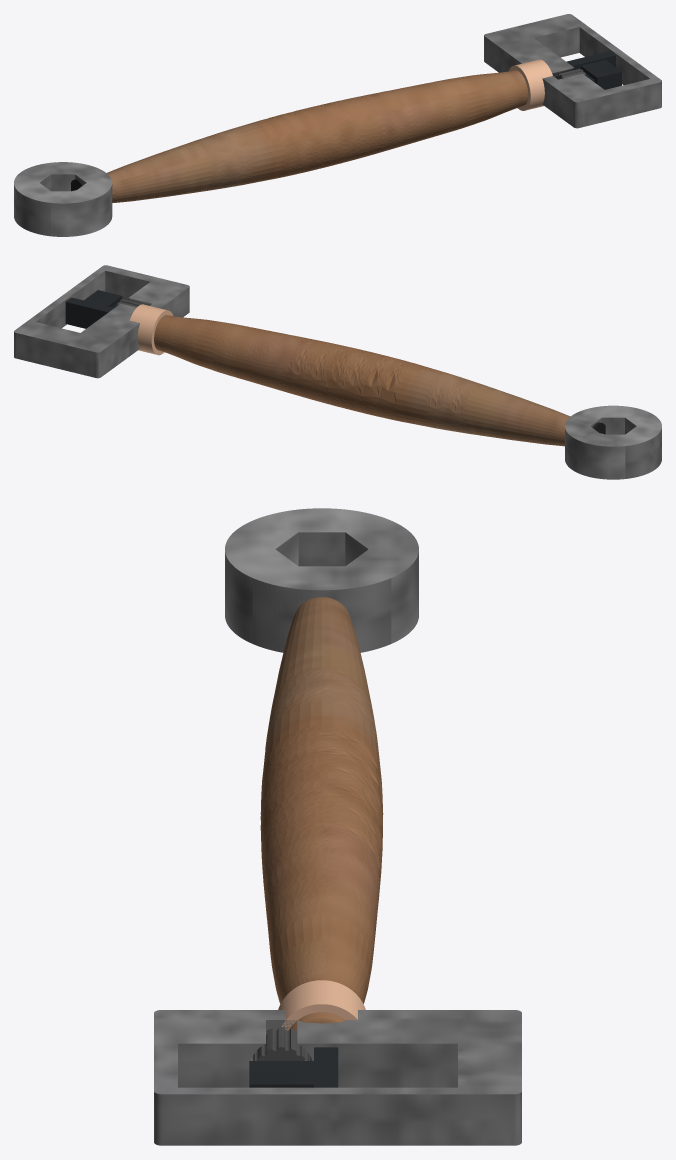
Rendered from Handtools_Wrench__0041.glb.
3 renders of one model, top to bottom at view 1: azimuth 30°, elevation 25°; view 2: azimuth 150°, elevation 25°; view 3: azimuth 270°, elevation 25°, orthographic. The views are drawn at different scales.
Visible parts, largest first — view 1: wrench_body::wood_grip, wrench_body::body_shell, movable_jaw::jaw_shell, wrench_body::ferrule_collar; view 2: wrench_body::wood_grip, wrench_body::body_shell, movable_jaw::jaw_shell, wrench_body::ferrule_collar; view 3: wrench_body::body_shell, wrench_body::wood_grip, movable_jaw::jaw_shell, wrench_body::ferrule_collar, worm_screw::worm_wheel.
Part boxes in pixels (box(x1,y1,x2,y2)): wrench_body::wood_grip: box(107, 70, 528, 202); wrench_body::body_shell: box(14, 14, 661, 236); movable_jaw::jaw_shell: box(566, 51, 621, 89); wrench_body::ferrule_collar: box(509, 59, 552, 110); wrench_body::wood_grip: box(154, 315, 570, 446); wrench_body::body_shell: box(14, 265, 661, 479); movable_jaw::jaw_shell: box(65, 290, 122, 328); wrench_body::ferrule_collar: box(129, 304, 173, 355); wrench_body::body_shell: box(154, 508, 521, 1145); wrench_body::wood_grip: box(260, 597, 383, 1060); movable_jaw::jaw_shell: box(249, 1047, 338, 1087); wrench_body::ferrule_collar: box(278, 980, 365, 1030); worm_screw::worm_wheel: box(253, 1027, 309, 1060).
Size of the model in its own units: 0.3386 by 0.0303 by 0.091.
Materials: 6 (5 with a texture image).
